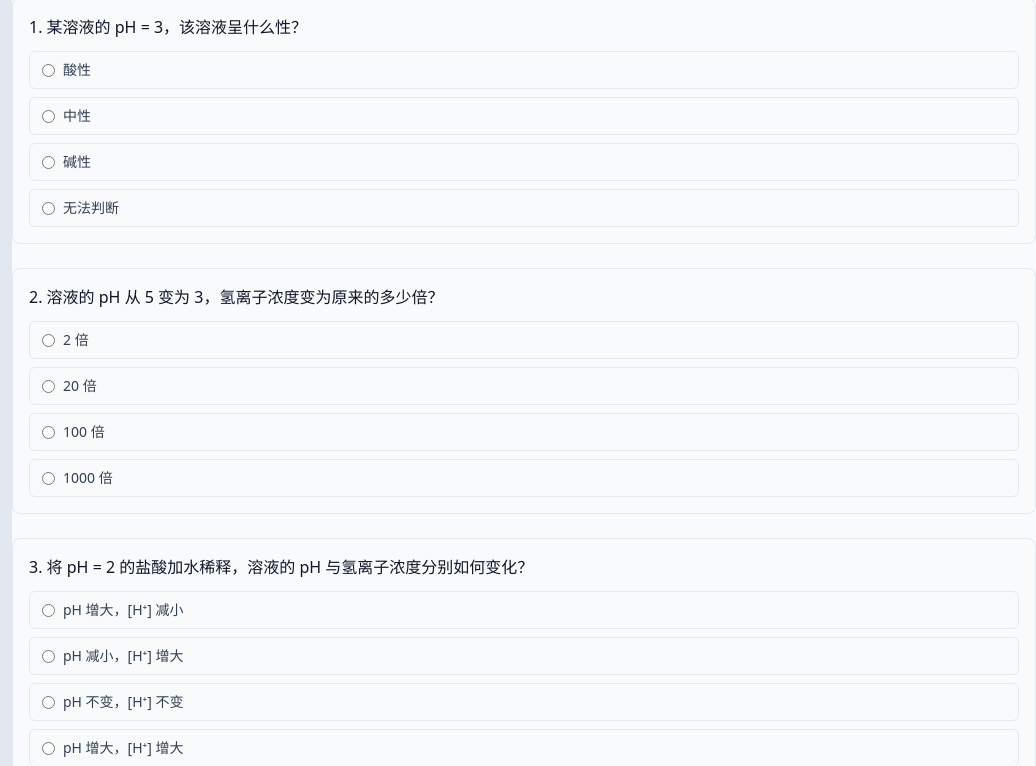
QuizSection 组件 › 答错时显示错误标记，且不标记完成
This screenshot has width=1036, height=766.
Click the radio button labelled "中性". click: (48, 116)
box: [42,110,55,122]
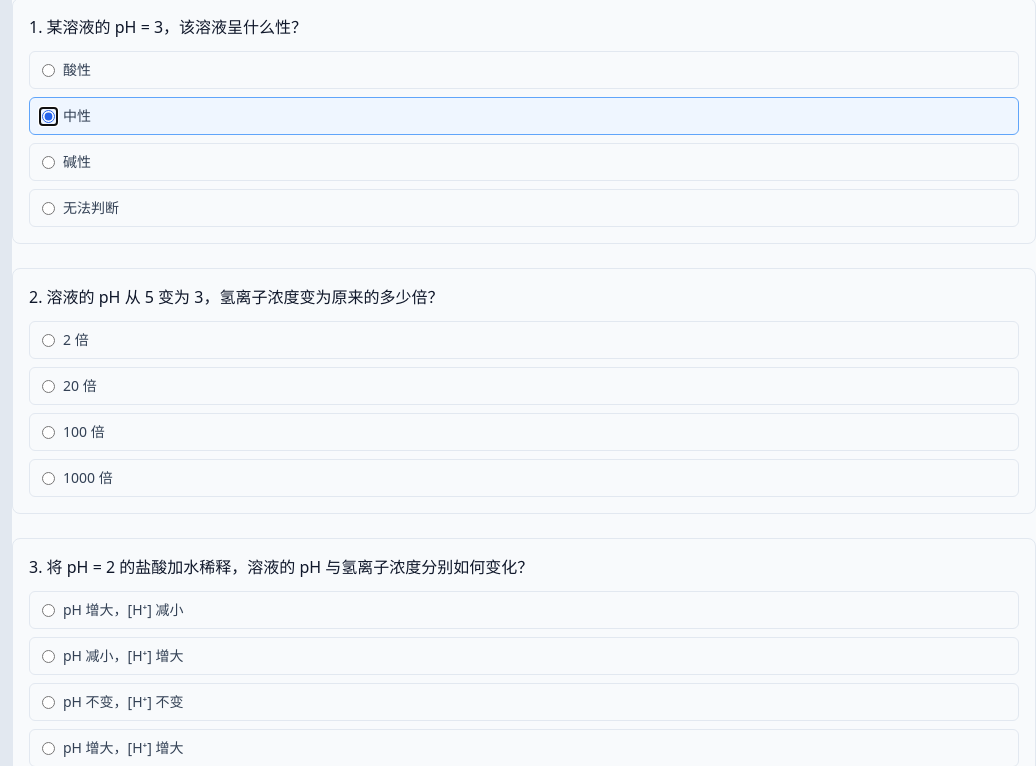
Click the radio button labelled "1000 倍". click: (48, 478)
box: [42,472,55,484]
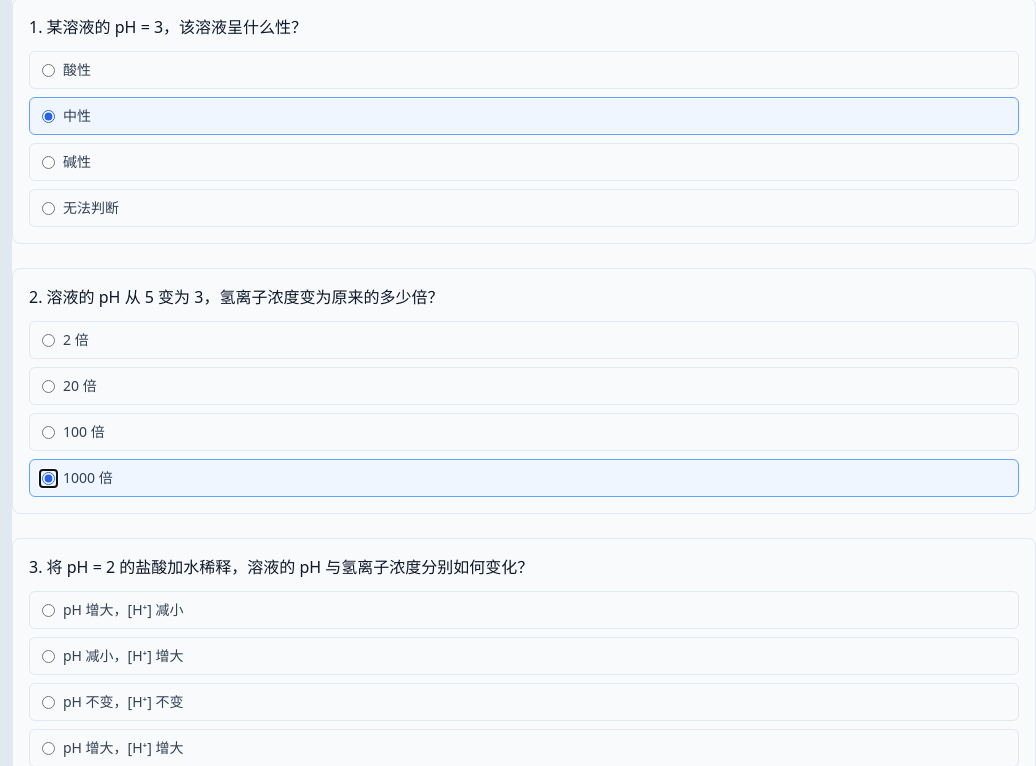
Click the radio button labelled "pH 减小，[H⁺] 增大". click: (48, 656)
box: [42,650,55,662]
(page scrolled)
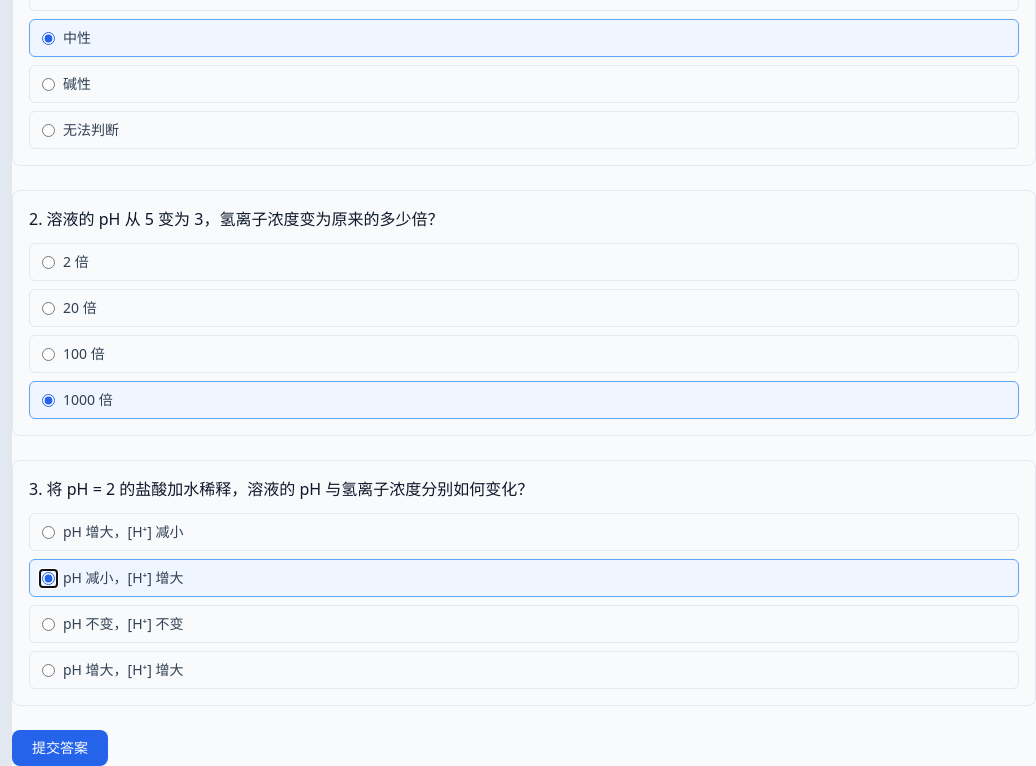
Click the button "提交答案". click: (60, 748)
box: [12,730,108,765]
(page scrolled)
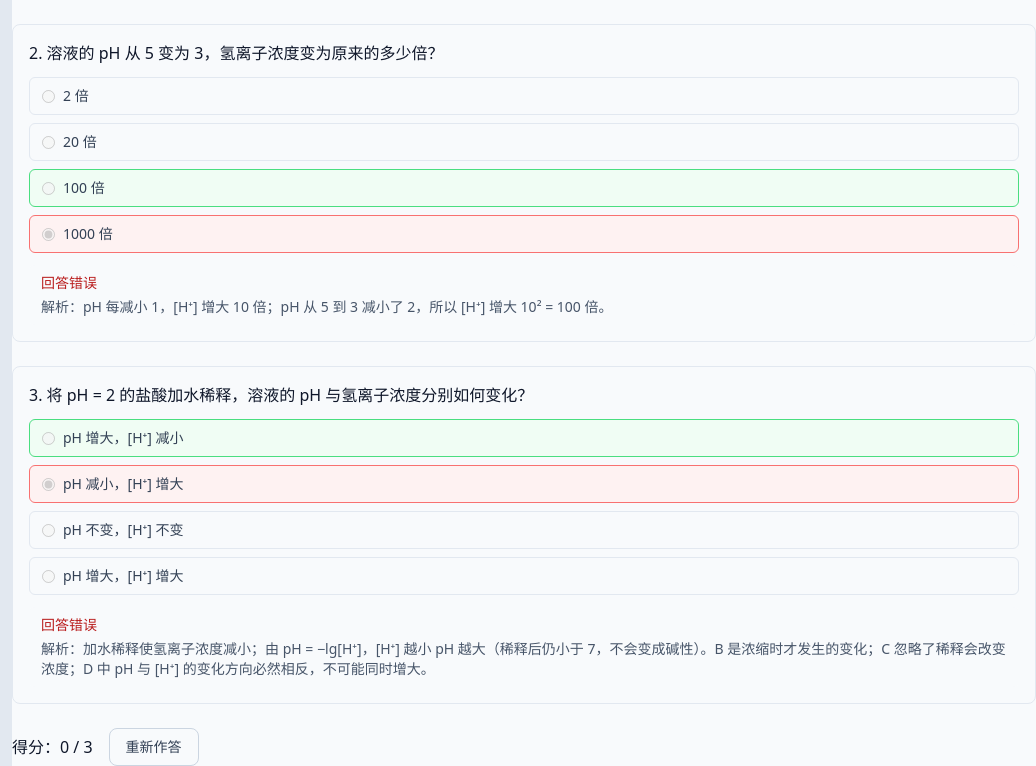
Check: the text "回答错误" is shown 3 times
